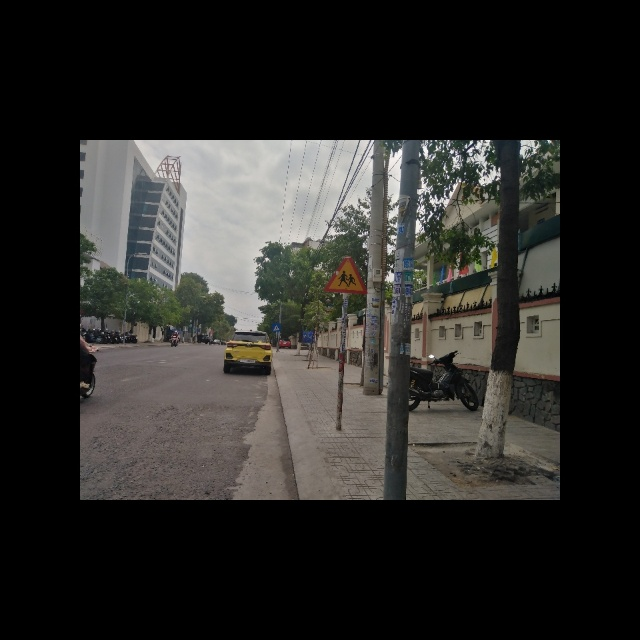Trẻ em ngang qua: (325, 254, 369, 291)
Đường dành cho người đi bộ: (271, 322, 281, 332)
